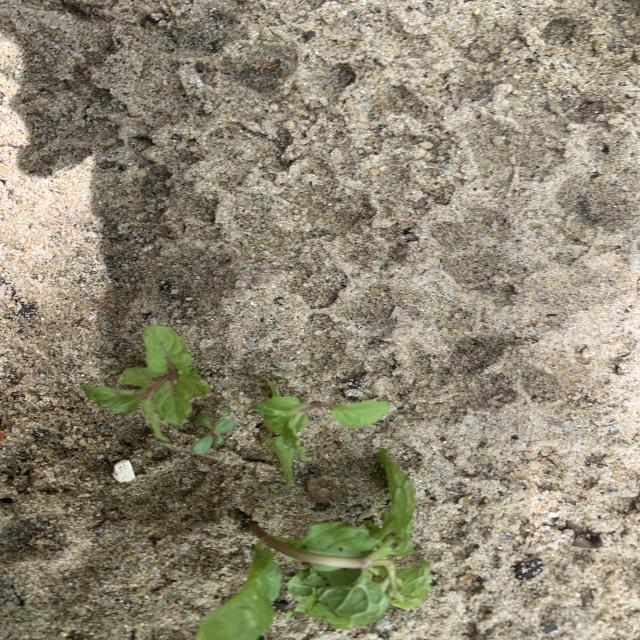crop: (196, 453, 431, 639), (83, 325, 211, 440), (253, 380, 388, 483)
weed: (194, 406, 235, 453)
